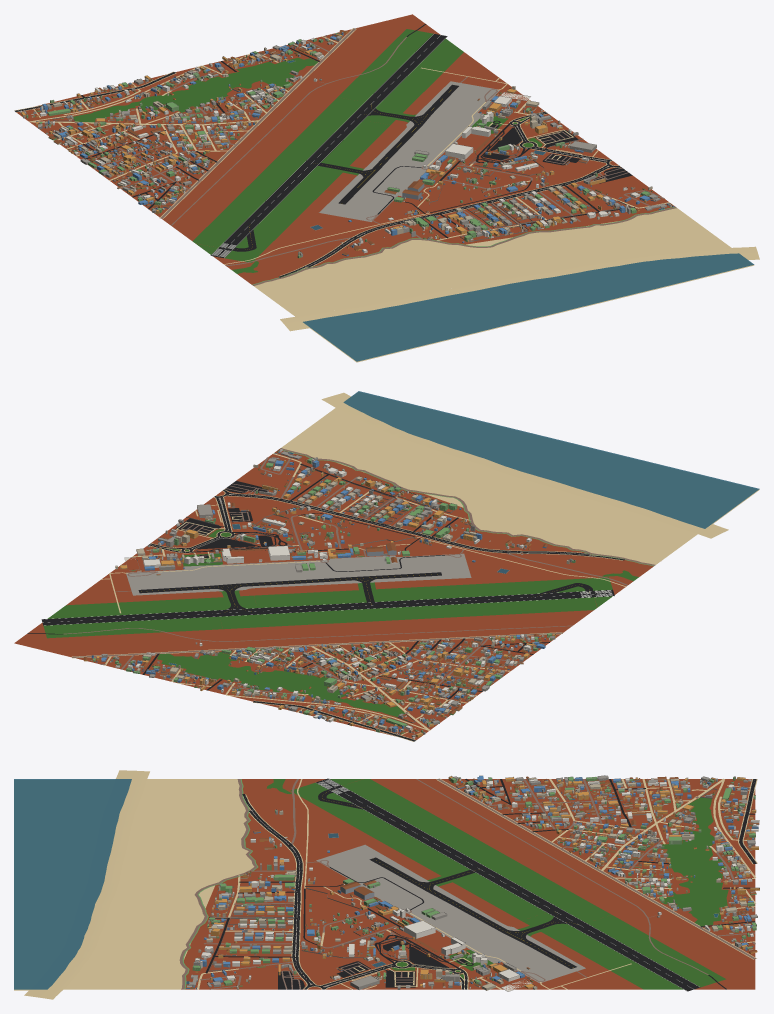
File: zone_aeroport.glb
3 renders of one model, top to bottom at view 1: azimuth 30°, elevation 25°; view 2: azimuth 150°, elevation 25°; view 3: azimuth 270°, elevation 25°, orthographic. The views are drawn at different scales.
Parts seen in each view (by area): view 1: sol_terre-col, plage_front_de_mer, mer, zone_herbe_aerodrome_t0_1, plage_estran-col, zone_herbe_aerodrome_t-1_0, aeroport_tarmac_t0_0, zone_plage_t0_-1, zone_humide_t-1_2, aeroport_runway_t0_1, parapet_t-1_1, zone_herbe_aerodrome_t-2_0 (+29 smaller); view 2: sol_terre-col, plage_front_de_mer, mer, zone_herbe_aerodrome_t0_1, plage_estran-col, zone_herbe_aerodrome_t-1_0, aeroport_tarmac_t0_0, zone_humide_t-1_2, aeroport_runway_t0_1, parapet_t-1_1, zone_herbe_aerodrome_t-2_0, aeroport_tarmac_t0_1 (+28 smaller); view 3: sol_terre-col, plage_front_de_mer, mer, zone_herbe_aerodrome_t0_1, plage_estran-col, zone_herbe_aerodrome_t-1_0, aeroport_tarmac_t0_0, zone_humide_t-1_2, aeroport_runway_t0_1, parapet_t-1_1, zone_herbe_aerodrome_t-2_0, aeroport_tarmac_t0_1 (+60 smaller).
Boxes of the visible parts, x1,y1,x2,y2 form: sol_terre-col: (16, 14, 675, 284); plage_front_de_mer: (254, 208, 731, 316); mer: (303, 253, 754, 361); zone_herbe_aerodrome_t0_1: (278, 52, 463, 167); plage_estran-col: (280, 246, 759, 331); zone_herbe_aerodrome_t-1_0: (216, 157, 362, 229); aeroport_tarmac_t0_0: (320, 112, 483, 211); zone_plage_t0_-1: (395, 211, 680, 270); zone_humide_t-1_2: (75, 61, 311, 121); aeroport_runway_t0_1: (306, 34, 447, 163); parapet_t-1_1: (112, 89, 273, 183); zone_herbe_aerodrome_t-2_0: (192, 218, 284, 262); sol_terre-col: (14, 450, 653, 739); plage_front_de_mer: (281, 408, 697, 564); mer: (343, 391, 759, 528); zone_herbe_aerodrome_t0_1: (67, 590, 375, 629); plage_estran-col: (321, 392, 728, 538); zone_herbe_aerodrome_t-1_0: (358, 581, 534, 621); aeroport_tarmac_t0_0: (184, 555, 469, 587); zone_humide_t-1_2: (165, 655, 404, 713); aeroport_runway_t0_1: (41, 602, 372, 625); parapet_t-1_1: (255, 637, 482, 693); zone_herbe_aerodrome_t-2_0: (524, 577, 612, 613); aeroport_tarmac_t0_1: (126, 569, 256, 595); sol_terre-col: (181, 779, 755, 989); plage_front_de_mer: (64, 779, 254, 989); mer: (14, 779, 131, 989); zone_herbe_aerodrome_t0_1: (450, 859, 642, 988); plage_estran-col: (24, 770, 149, 999); zone_herbe_aerodrome_t-1_0: (345, 801, 511, 886); aeroport_tarmac_t0_0: (360, 845, 502, 963); zone_humide_t-1_2: (667, 797, 724, 924); aeroport_runway_t0_1: (473, 867, 700, 991); parapet_t-1_1: (498, 802, 670, 882); zone_herbe_aerodrome_t-2_0: (290, 779, 409, 821); aeroport_tarmac_t0_1: (501, 923, 585, 983).
Size of the model in its own units: 1482 by 26 by 2029.
